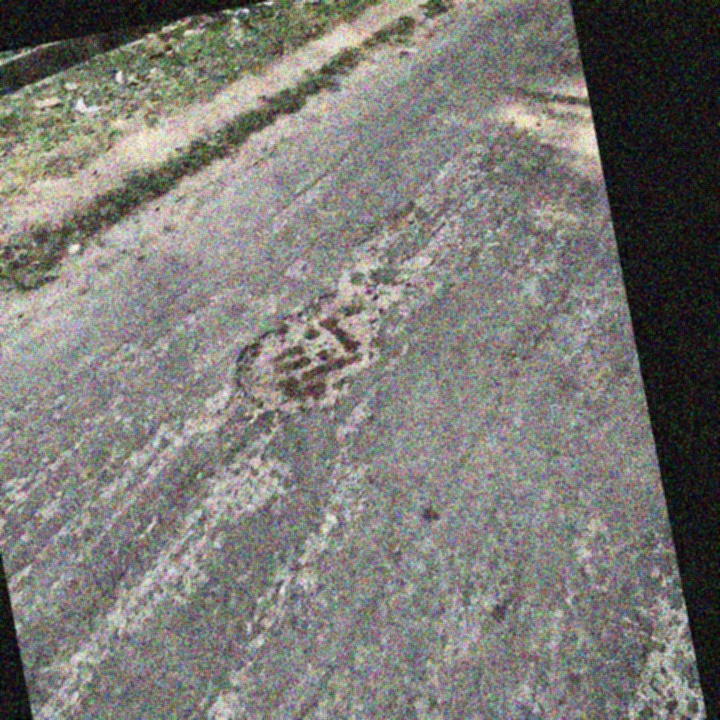pothole: (219, 265, 418, 426), (362, 201, 427, 249)
